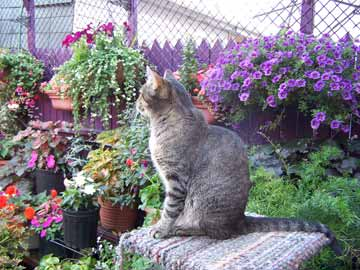cat: (137, 64, 332, 246)
